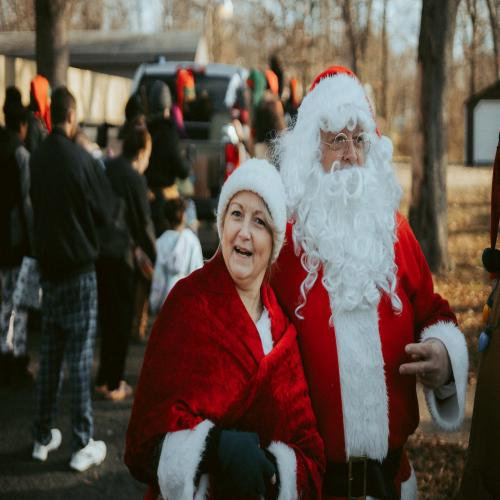Santa: (278, 65, 470, 500)
